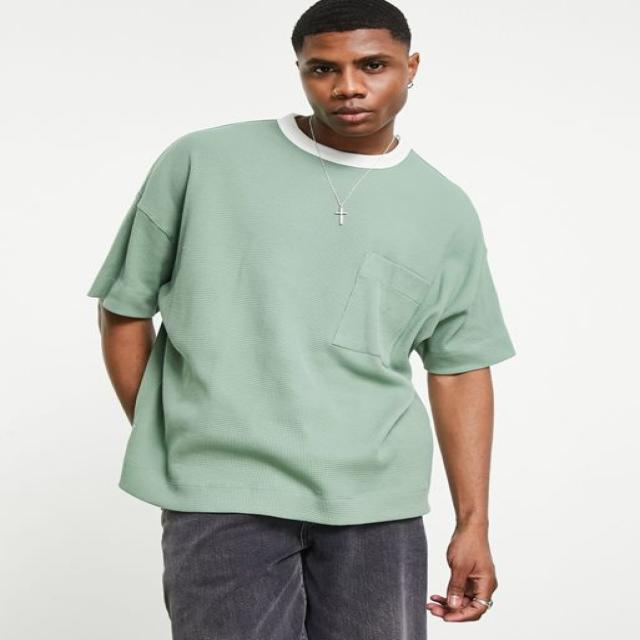tshirt: (90, 113, 515, 524)
